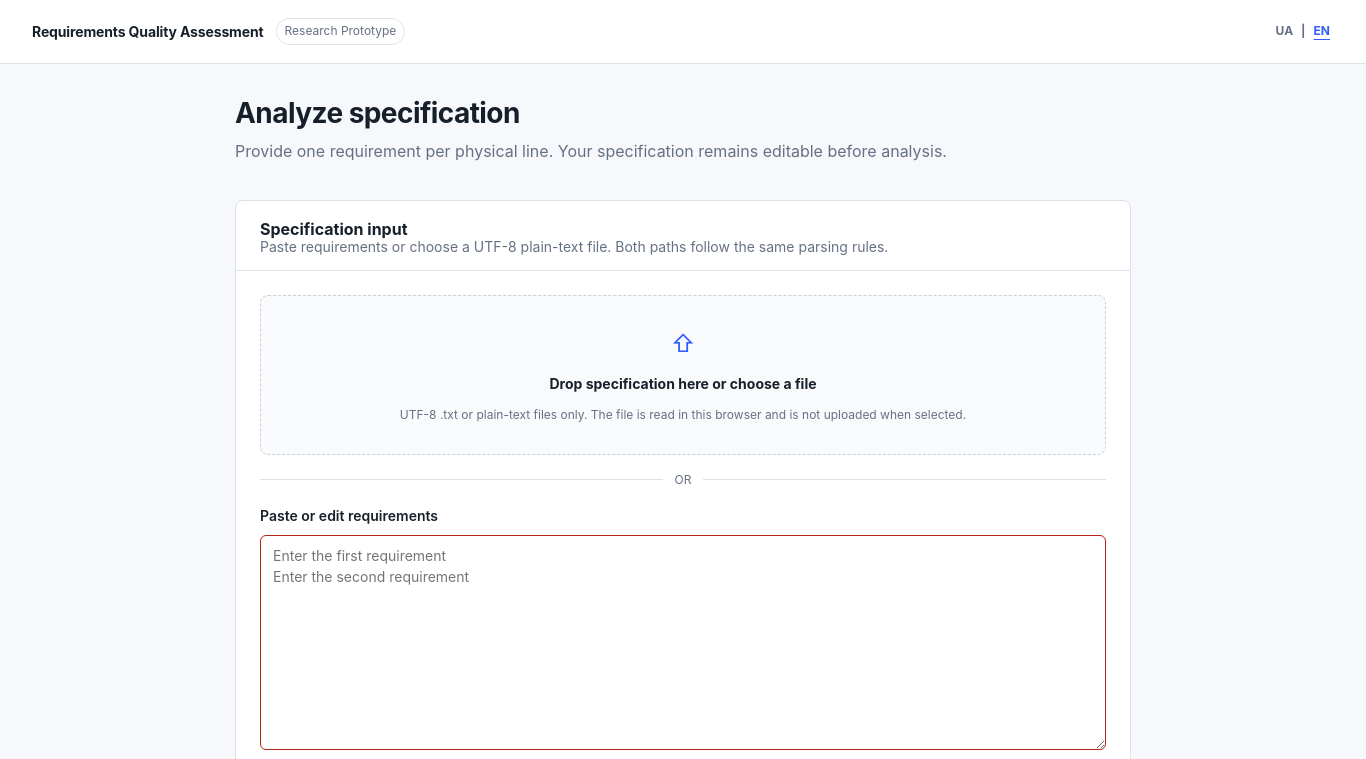
RUI-06 analysis lifecycle › invalidates a failed retry when the ordinary specification changes
The image size is (1366, 759).
In the text box labelled "Paste or edit requirements": (683, 642) x1=260 y1=535 x2=1106 y2=750, type "Specification A"
(page scrolled)
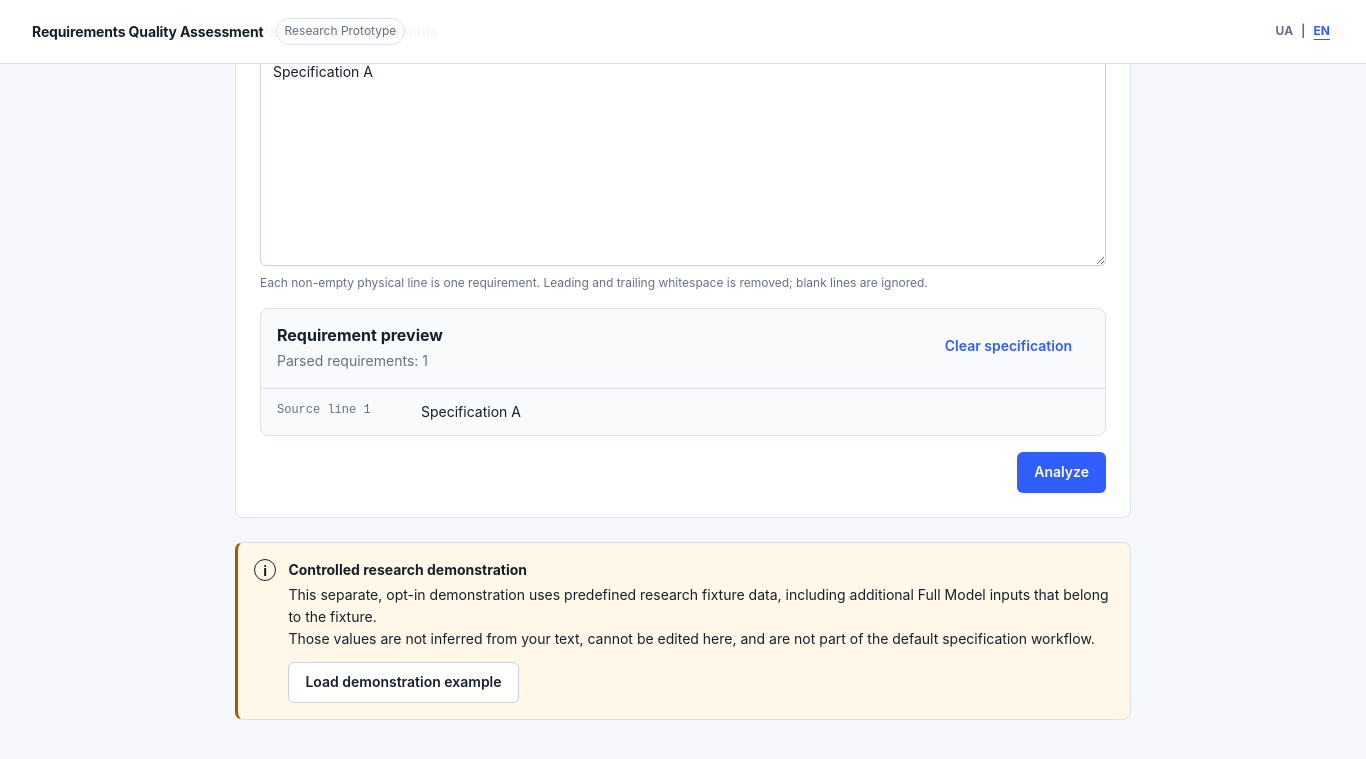
Click the button "Analyze": (1062, 472) x1=1017 y1=452 x2=1106 y2=493
(page scrolled)
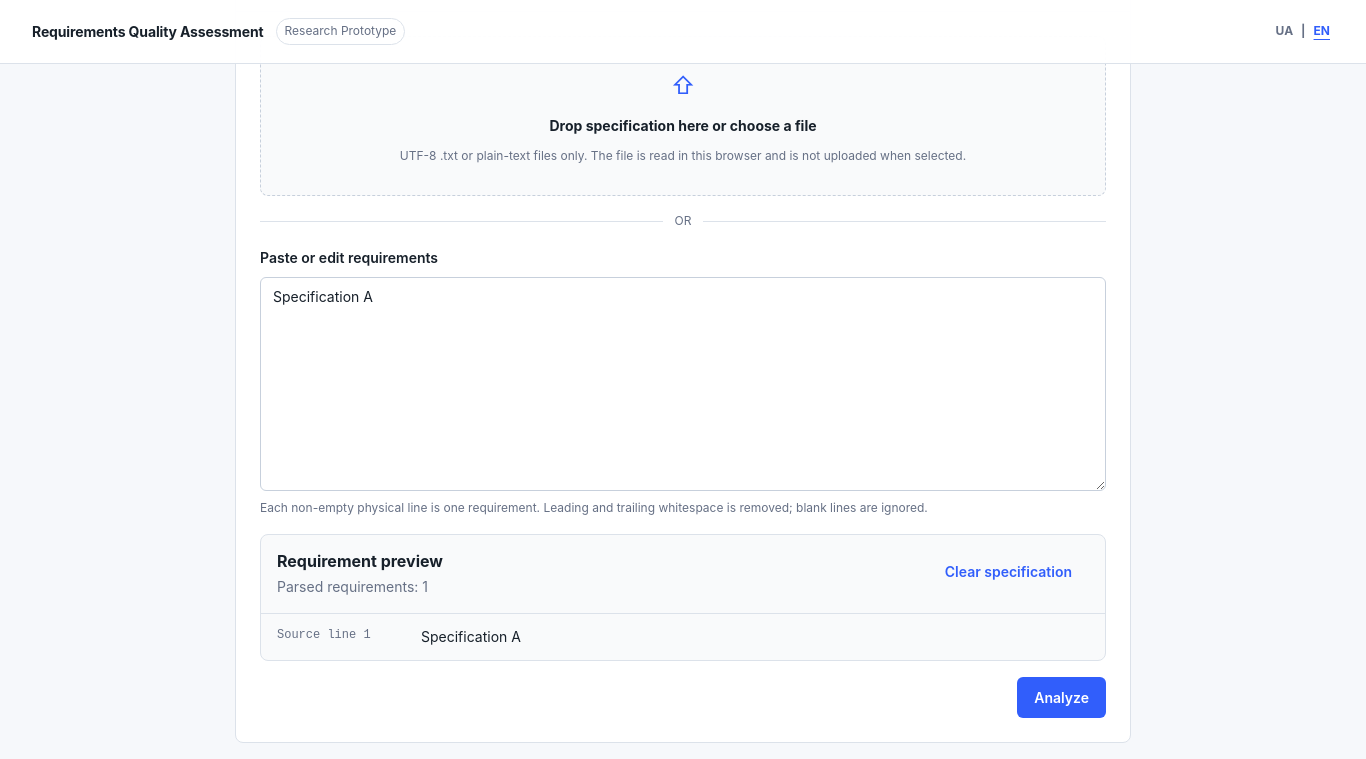
Replace the text in the text box labelled "Paste or edit requirements" with "Specification B": (683, 384) x1=260 y1=277 x2=1106 y2=491
(page scrolled)
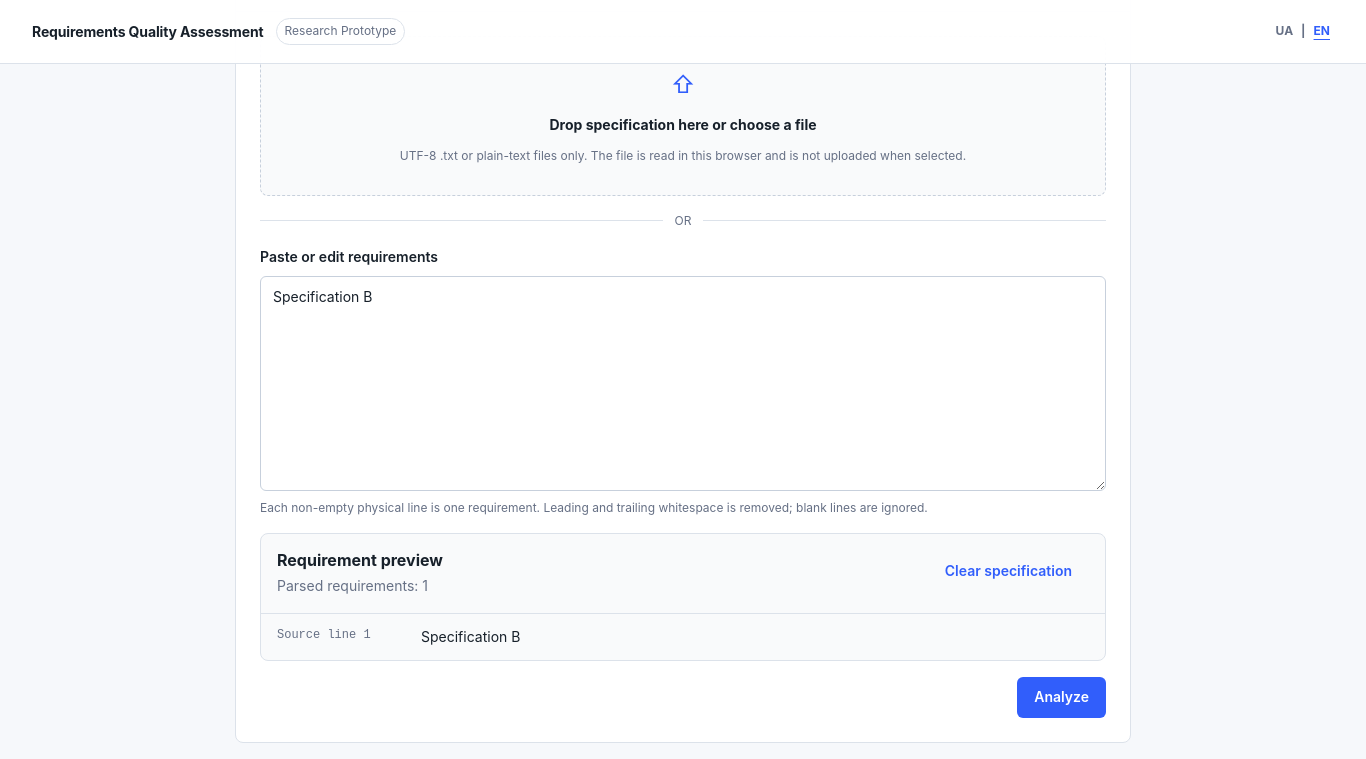
Click the button "Analyze": (1062, 697) x1=1017 y1=676 x2=1106 y2=718
(page scrolled)
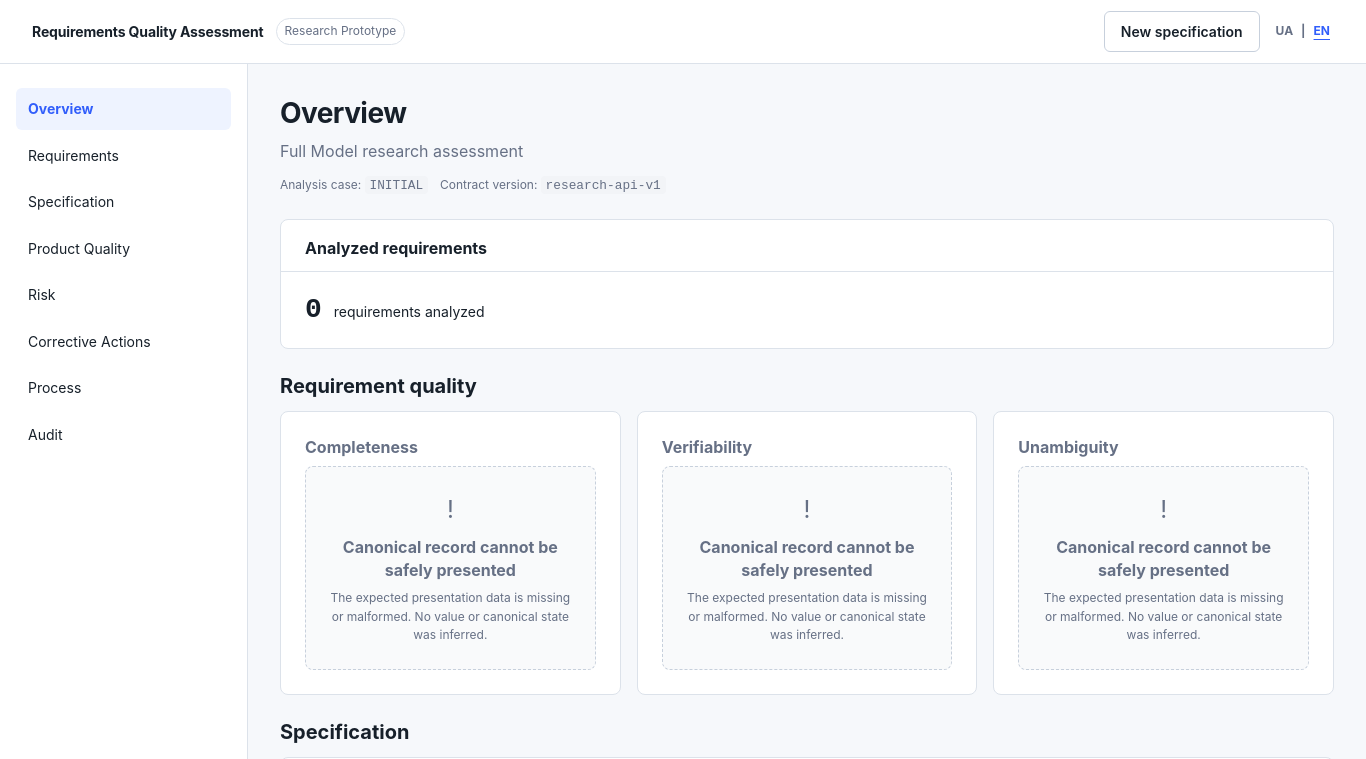
Now the heading "Overview" is shown, box x1=280 y1=96 x2=406 y2=130
